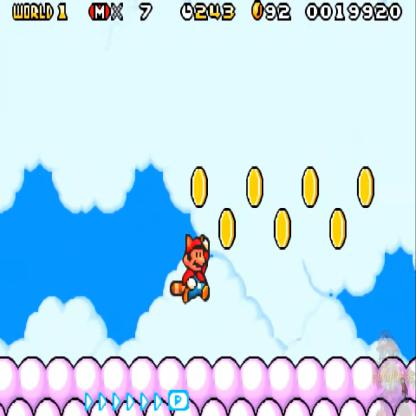Mario: (170, 231, 213, 304)
moneda: (243, 163, 266, 210), (300, 164, 322, 212), (216, 203, 238, 250), (355, 165, 377, 208), (328, 207, 348, 250), (188, 167, 209, 206), (272, 209, 292, 249), (252, 0, 263, 19)
